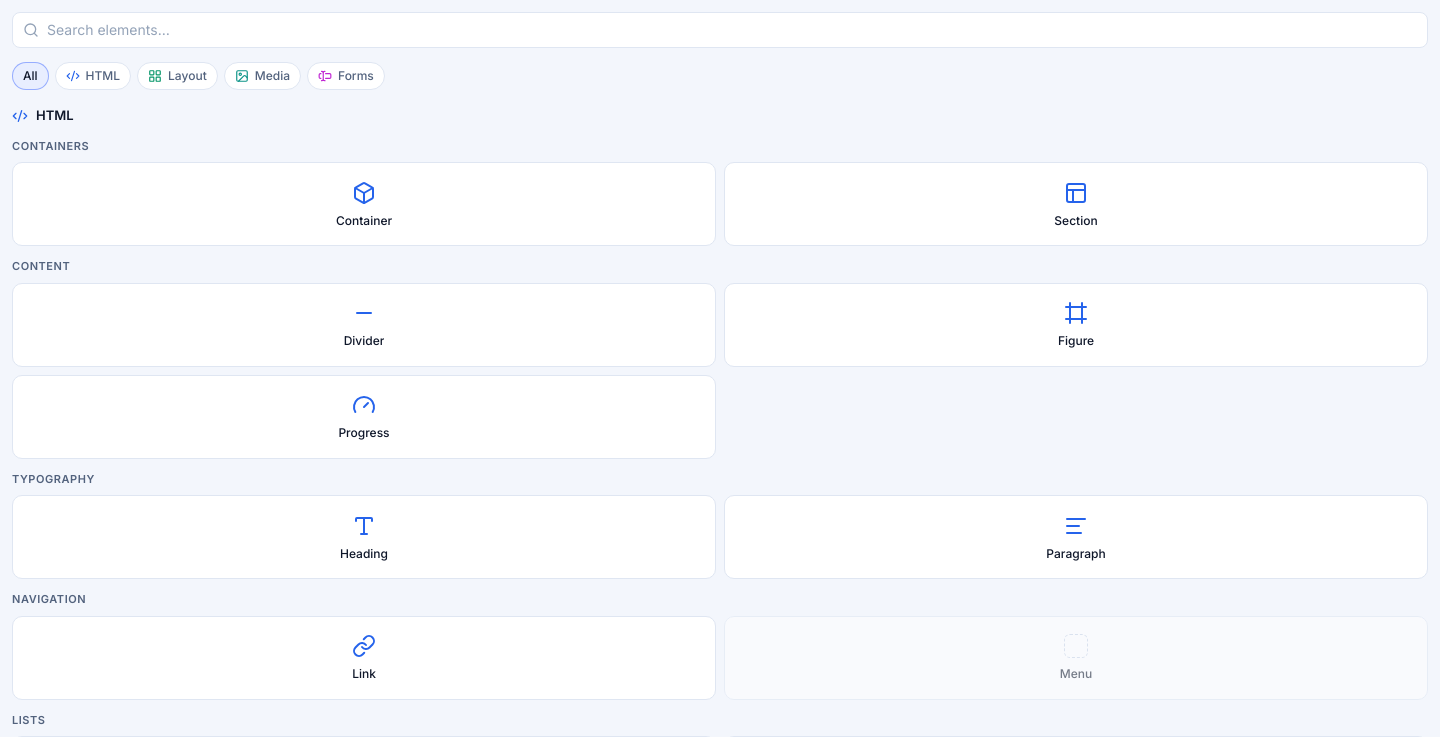
Test: ResourceCatalogPanel › filters by category through an accessible radio group
The width and height of the screenshot is (1440, 737).
Expected: the radio button labelled "All" is checked, [12,62,49,90]
What coordinates should you click on to do the following:
click the radio button labelled "Forms"
I would click on:
 (346, 76)
Its box is [307,62,385,90].
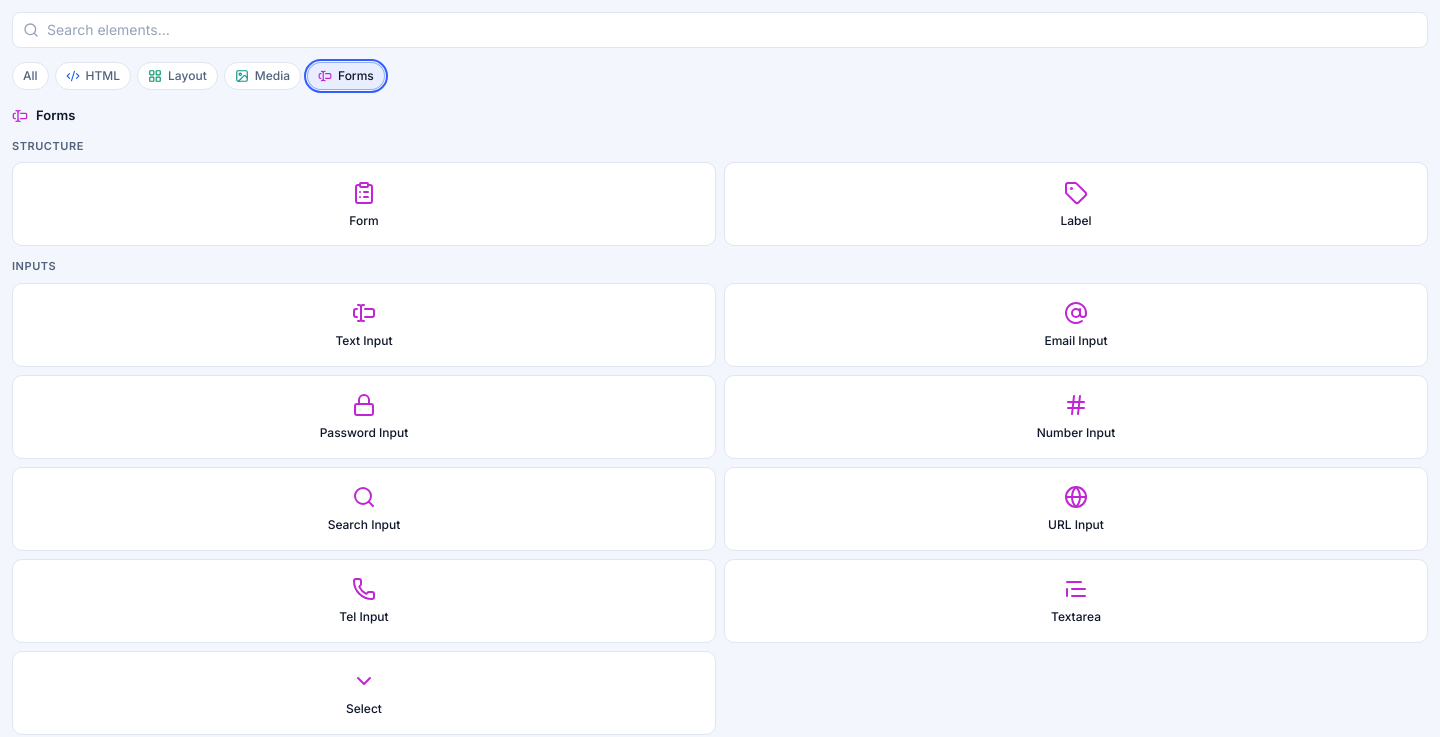
Expected: the heading "Forms" is shown, [12,107,75,124]
Now the radio button labelled "Forms" is checked, box [307,62,385,90]
Now the radio button labelled "All" is not checked, box [12,62,49,90]
